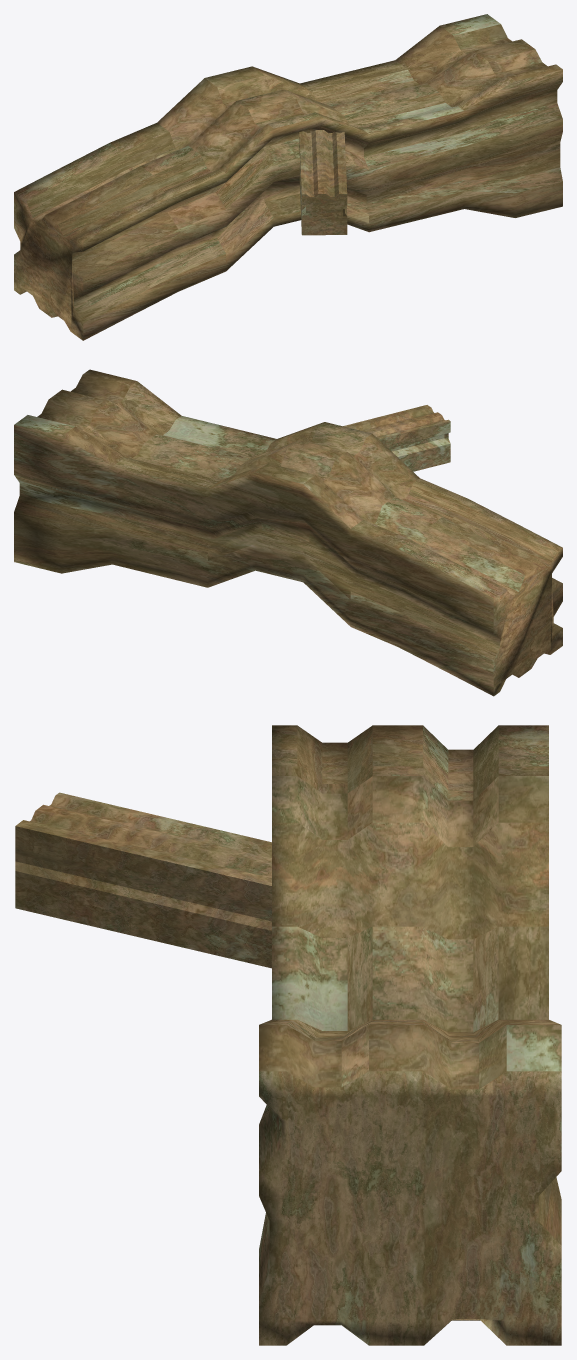
File: forest tree3.glb
The picture shows the model from 3 angles, top to bottom: view 1: azimuth 30°, elevation 25°; view 2: azimuth 150°, elevation 25°; view 3: azimuth 270°, elevation 25°; orthographic projection. The views are drawn at different scales.
Parts seen in each view (by area): view 1: Cube, Cube.001; view 2: Cube, Cube.001; view 3: Cube, Cube.001.
Part boxes in pixels (x1,y1,x2,y2): Cube: (14, 14, 562, 340); Cube.001: (299, 130, 347, 235); Cube: (14, 369, 562, 696); Cube.001: (343, 405, 450, 471); Cube: (259, 725, 561, 1345); Cube.001: (15, 792, 271, 968).
Bounding box in the file's own units: 1.82 × 0.6045 × 0.9025.
1 material, 1 textured.
